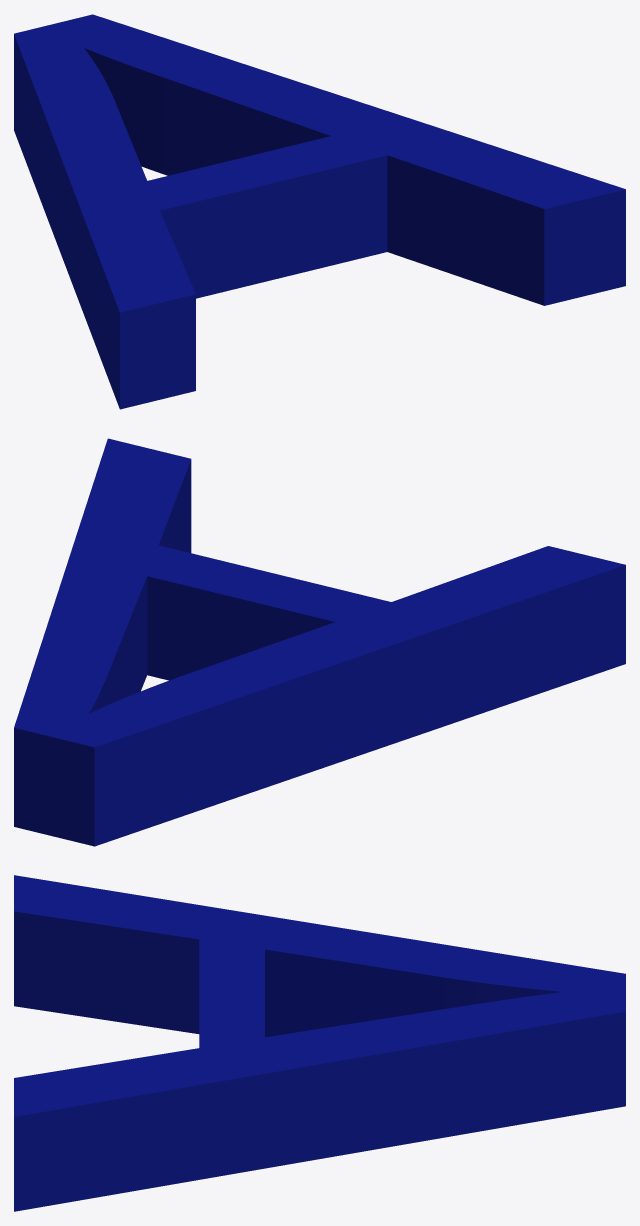
3 views of the same model, one above another, from view 1: azimuth 30°, elevation 25°; view 2: azimuth 150°, elevation 25°; view 3: azimuth 270°, elevation 25° (orthographic). The views are drawn at different scales.
Parts seen in each view (by area): view 1: TextPlus001; view 2: TextPlus001; view 3: TextPlus001.
Part boxes in pixels (box(x1,y1,x2,y2)): TextPlus001: box(14, 14, 625, 409); TextPlus001: box(14, 438, 625, 846); TextPlus001: box(14, 875, 625, 1211).
Size of the model in its own units: 23.98 by 4.38 by 25.64.
